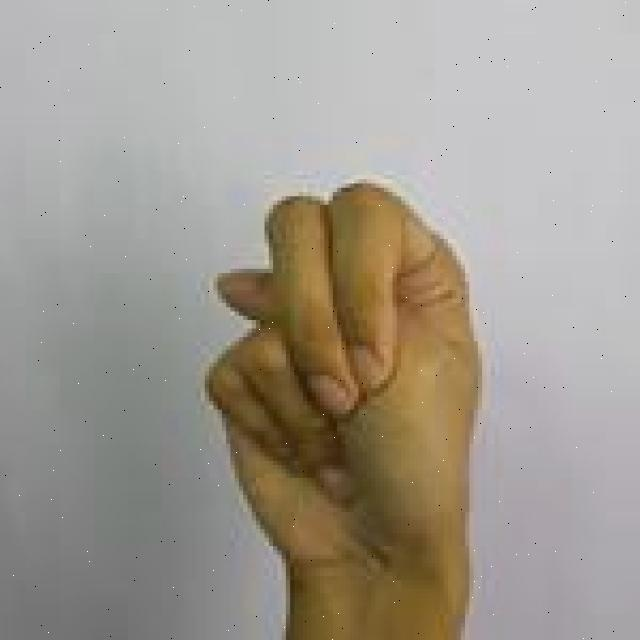N: (191, 173, 497, 640)
